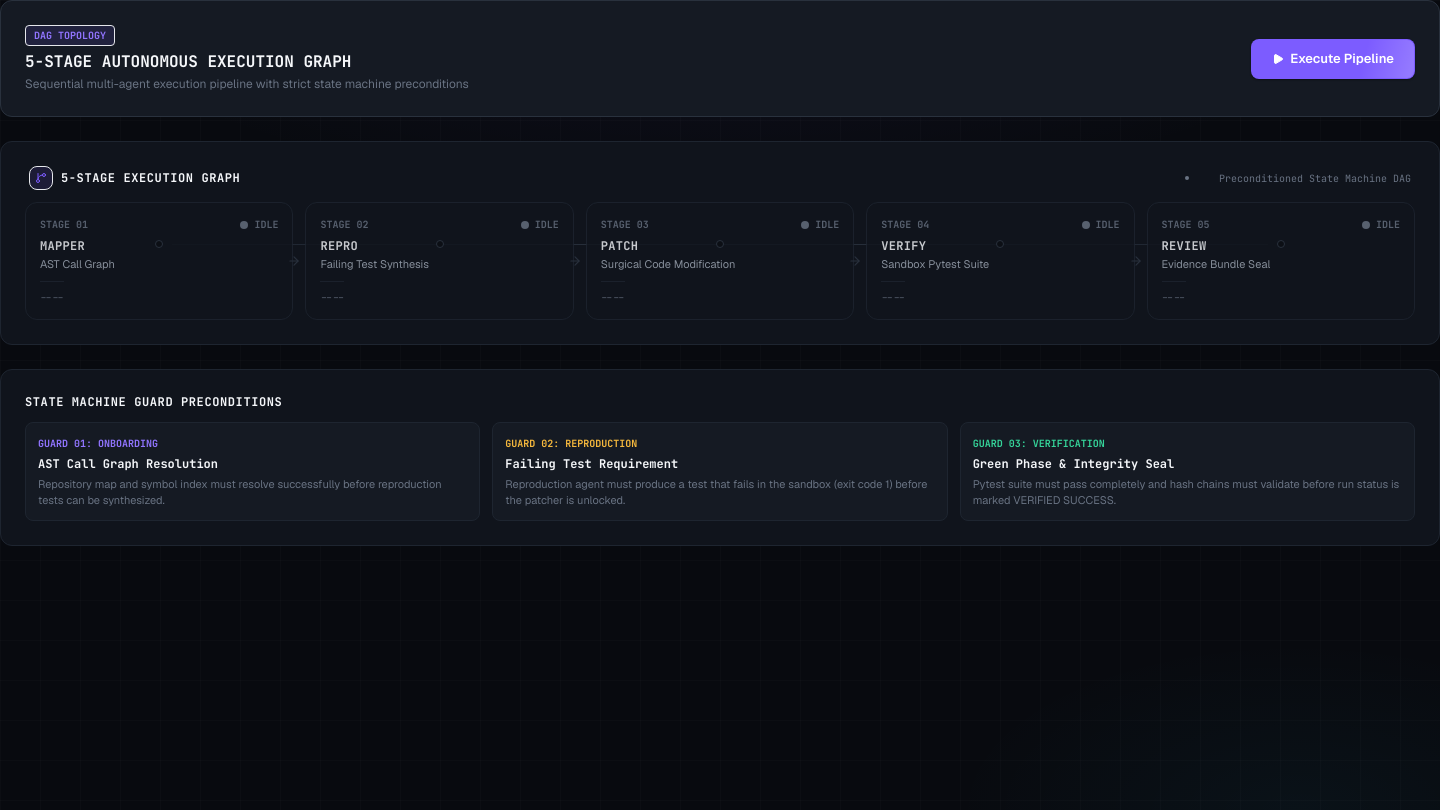
Test: Active Model Propagation & Display across Components › DagTab displays the configured activeModel on repro/patcher stages
Expected: the heading "5-Stage Autonomous Execution Graph" is shown, [25,51,351,72]
Expected: the heading "MAPPER" is shown, [40,238,85,254]
Click on REPRO stage to inspect detail card
Click the heading "REPRO": (339, 246) [320,238,358,254]
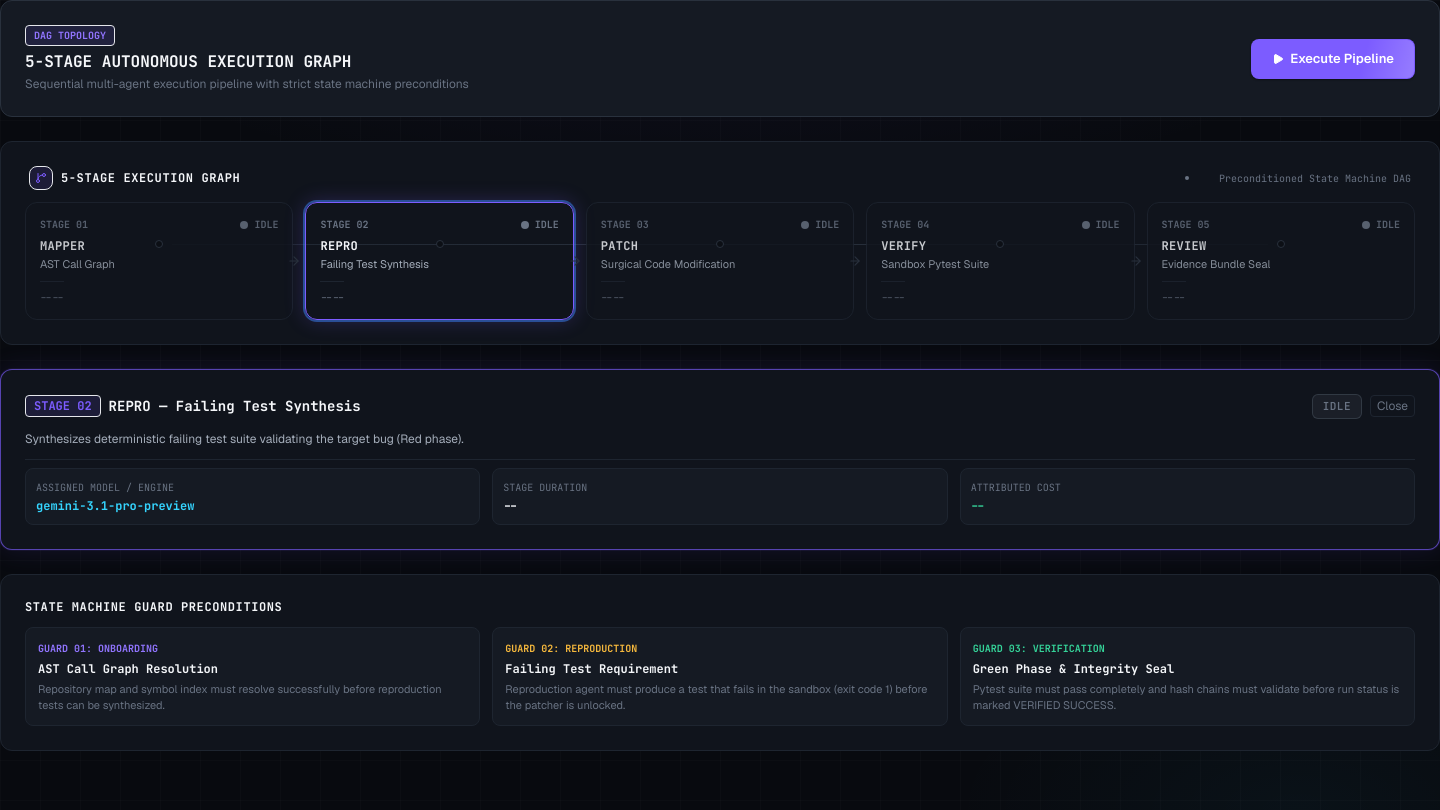
Expected: the text "gemini-3.1-pro-preview" is shown, [36,498,194,514]
